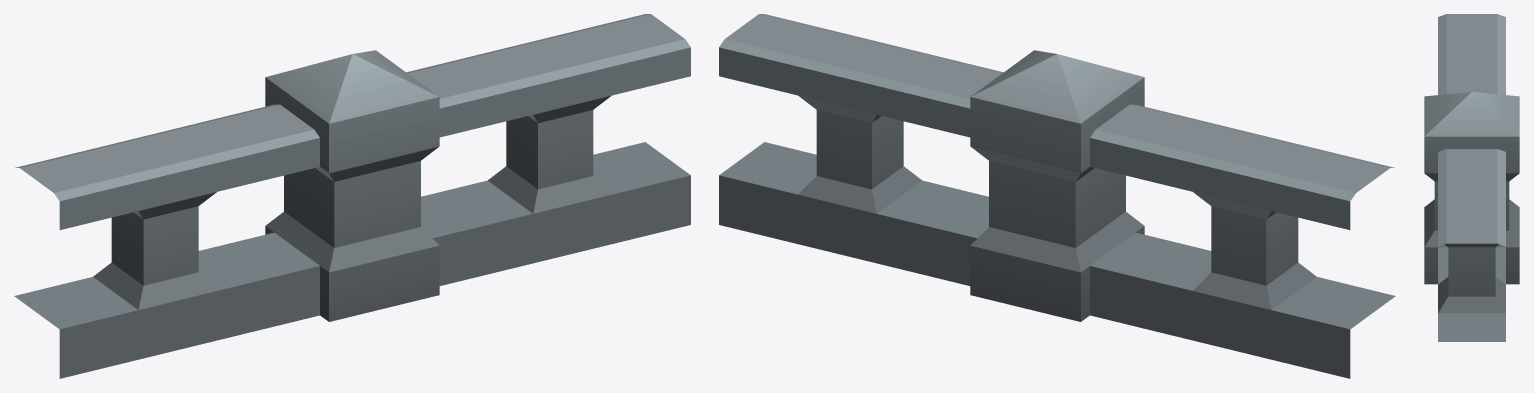
Rendered from barrier_column.glb.
3 views of the same model, side by side, from view 1: azimuth 30°, elevation 25°; view 2: azimuth 150°, elevation 25°; view 3: azimuth 270°, elevation 25° (orthographic). The views are drawn at different scales.
Parts seen in each view (by area): view 1: barrier_column; view 2: barrier_column; view 3: barrier_column.
Part boxes in pixels (x1,y1,x2,y2): barrier_column: [14, 14, 690, 378]; barrier_column: [719, 14, 1395, 378]; barrier_column: [1424, 14, 1519, 341].
Size of the model in its own units: 4 by 1.4 by 0.6997.
1 material, 1 textured.
